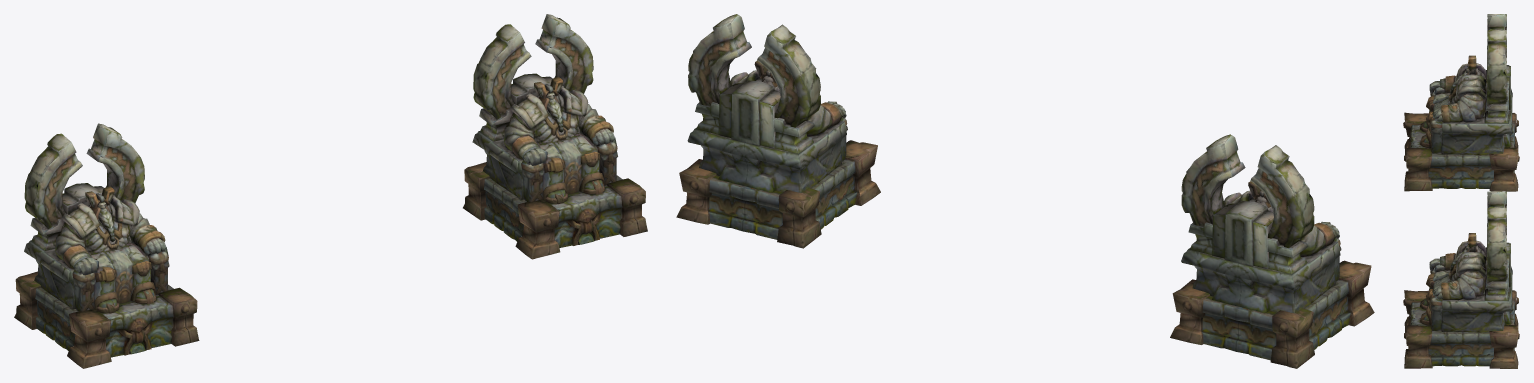
File: diaosi03.FBX
3 renders of one model, left to right at view 1: azimuth 30°, elevation 25°; view 2: azimuth 150°, elevation 25°; view 3: azimuth 270°, elevation 25°, orthographic. The views are drawn at different scales.
Visible parts, largest first — view 1: M_a1; view 2: M_a1; view 3: M_a1.
Part boxes in pixels (x1,y1,x2,y2): M_a1: [14, 14, 647, 368]; M_a1: [676, 14, 1374, 368]; M_a1: [1403, 14, 1519, 368].
Bounding box in the file's own units: 672 × 206 × 148.
